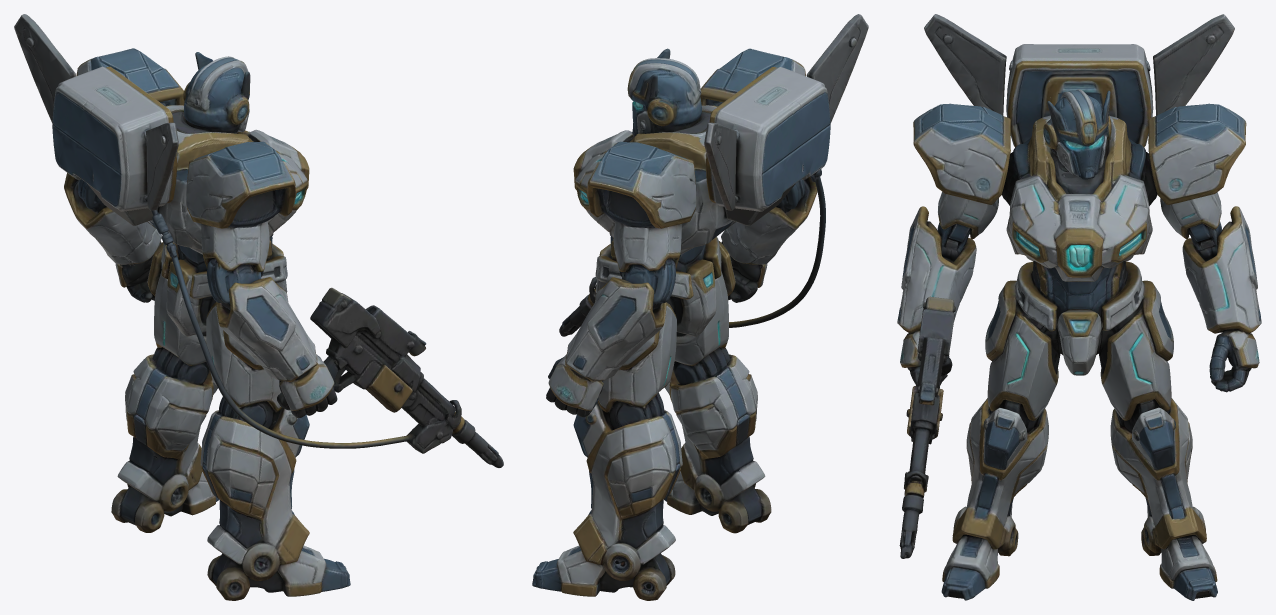
Rendered from hero-pbr.glb.
3 renders of one model, left to right at view 1: azimuth 30°, elevation 25°; view 2: azimuth 150°, elevation 25°; view 3: azimuth 270°, elevation 25°, orthographic. The views are drawn at different scales.
Parts seen in each view (by area): view 1: tripo_node_f45a11fd-bba9-4ec5-9179-8b2af812de0a; view 2: tripo_node_f45a11fd-bba9-4ec5-9179-8b2af812de0a; view 3: tripo_node_f45a11fd-bba9-4ec5-9179-8b2af812de0a.
Boxes of the visible parts, left/top/right/bottom form: tripo_node_f45a11fd-bba9-4ec5-9179-8b2af812de0a: left=14, top=14, right=503, bottom=600; tripo_node_f45a11fd-bba9-4ec5-9179-8b2af812de0a: left=532, top=14, right=868, bottom=600; tripo_node_f45a11fd-bba9-4ec5-9179-8b2af812de0a: left=897, top=14, right=1261, bottom=600.
Bounding box in the file's own units: 0.6665 × 1 × 0.665.
Materials: 1 (1 with a texture image).
